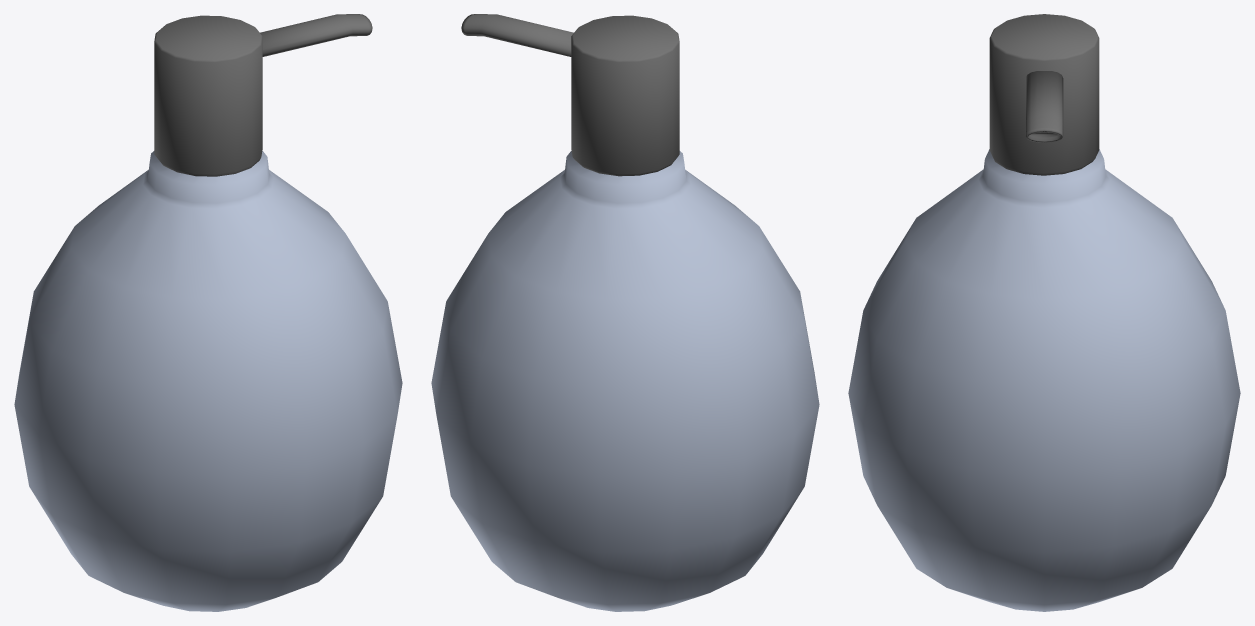
The model's file is SoapBottle1.fbx.
3 renders of one model, left to right at view 1: azimuth 30°, elevation 25°; view 2: azimuth 150°, elevation 25°; view 3: azimuth 270°, elevation 25°, orthographic.
Visible parts, largest first — view 1: SoapBottle; view 2: SoapBottle; view 3: SoapBottle.
Part boxes in pixels (left/top/right/bottom): SoapBottle: left=14, top=14, right=402, bottom=611; SoapBottle: left=431, top=14, right=819, bottom=611; SoapBottle: left=848, top=14, right=1240, bottom=611.
Size of the model in its own units: 164 by 251 by 164.
